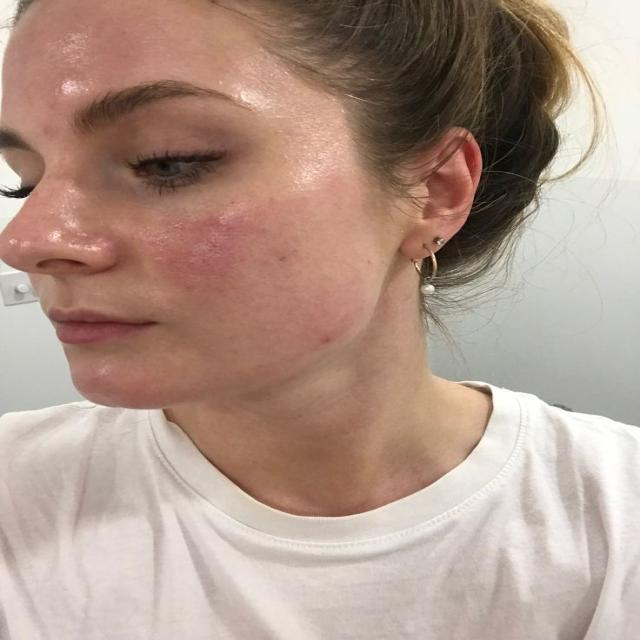Oily-Skin: (130, 196, 361, 325), (0, 21, 230, 86), (7, 155, 89, 263), (72, 348, 182, 399)
